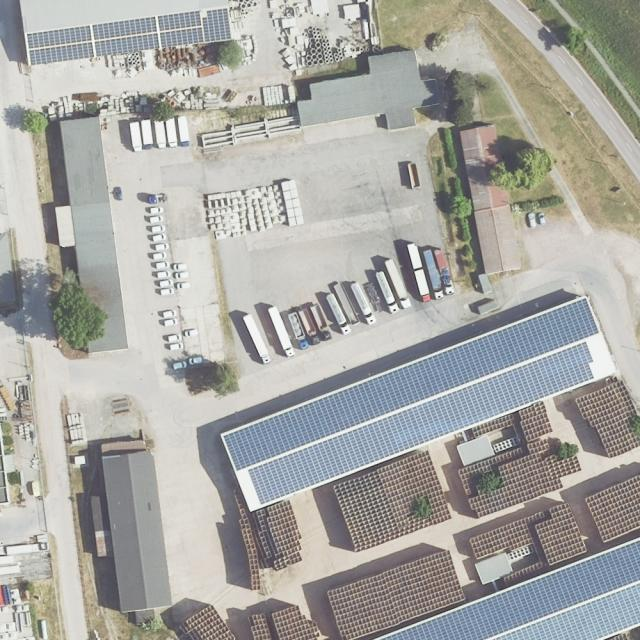PV: (223, 297, 602, 511), (375, 537, 640, 638), (25, 3, 233, 67)
